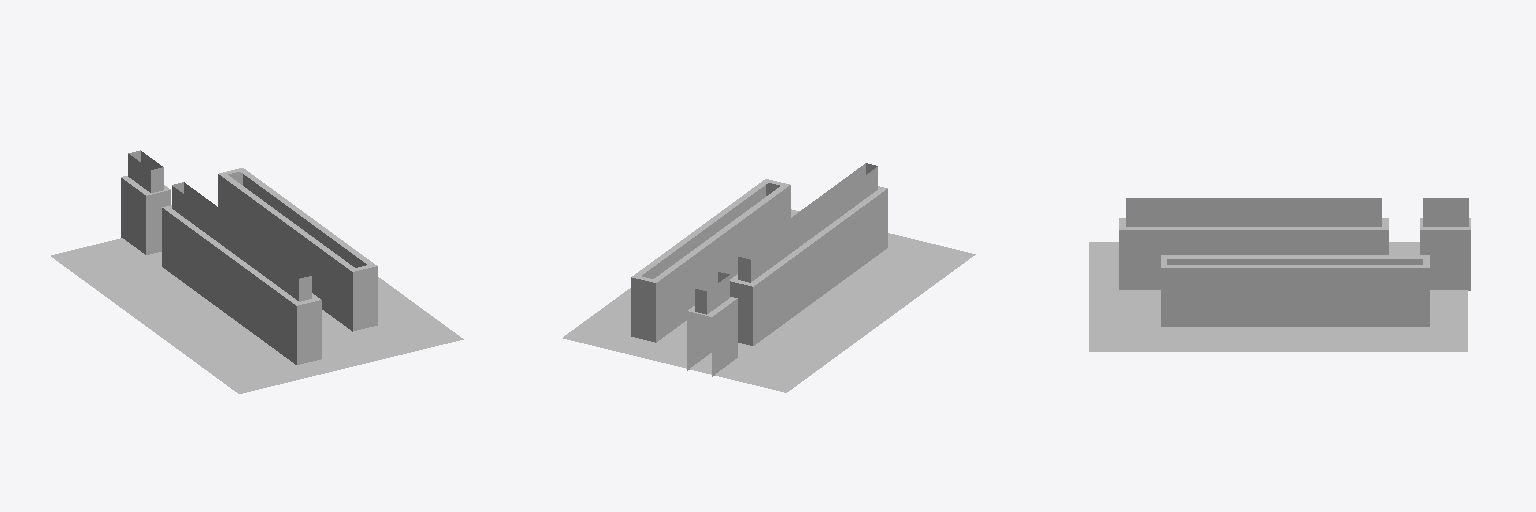
Rendered from floor.obj.
The picture shows the model from 3 angles: view 1: azimuth 30°, elevation 25°; view 2: azimuth 150°, elevation 25°; view 3: azimuth 270°, elevation 25°; orthographic projection.
Visible parts, largest first — view 1: floor_geo; view 2: floor_geo; view 3: floor_geo.
Part boxes in pixels (bbox=[...]): floor_geo: bbox=[51, 150, 463, 393]; floor_geo: bbox=[563, 163, 975, 392]; floor_geo: bbox=[1089, 198, 1470, 351].
Bounding box in the file's own units: 398 × 141 × 585.